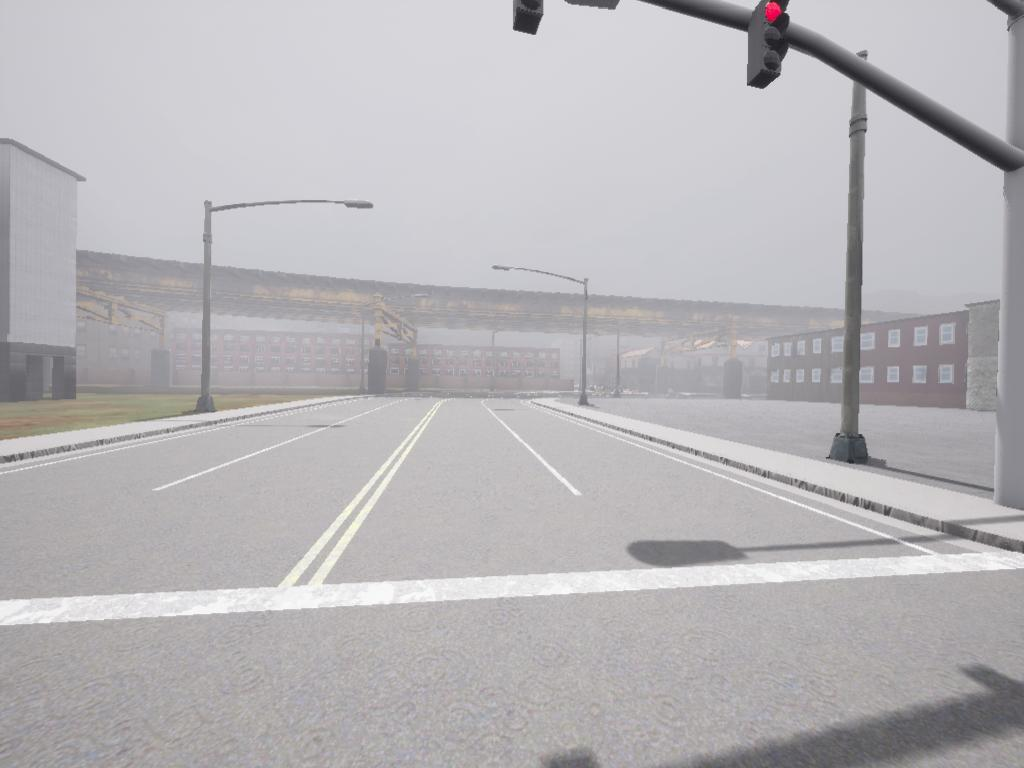traffic_light: (752, 1, 786, 85)
